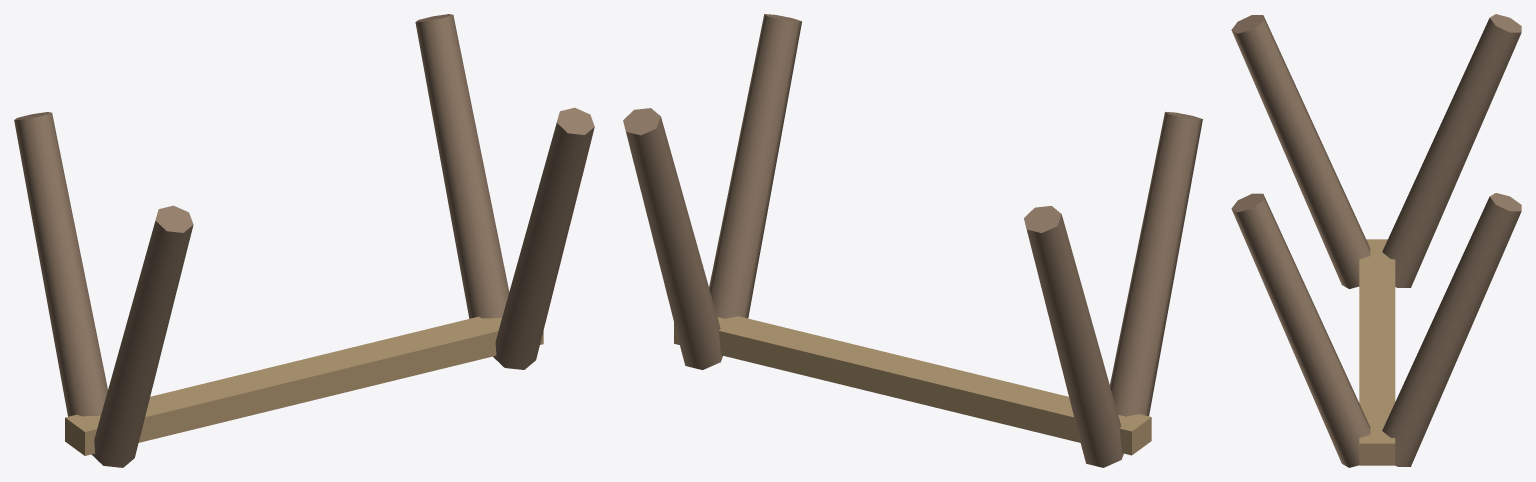
Rendered from build_rack.glb.
3 renders of one model, left to right at view 1: azimuth 30°, elevation 25°; view 2: azimuth 150°, elevation 25°; view 3: azimuth 270°, elevation 25°, orthographic. The views are drawn at different scales.
Visible parts, largest first — view 1: Baked; view 2: Baked; view 3: Baked.
Part boxes in pixels (x1=…): Baked: x1=14, y1=14, x2=594, y2=467; Baked: x1=623, y1=14, x2=1202, y2=467; Baked: x1=1231, y1=14, x2=1521, y2=467.
Bounding box in the file's own units: 1.6 × 0.9759 × 0.9604.
